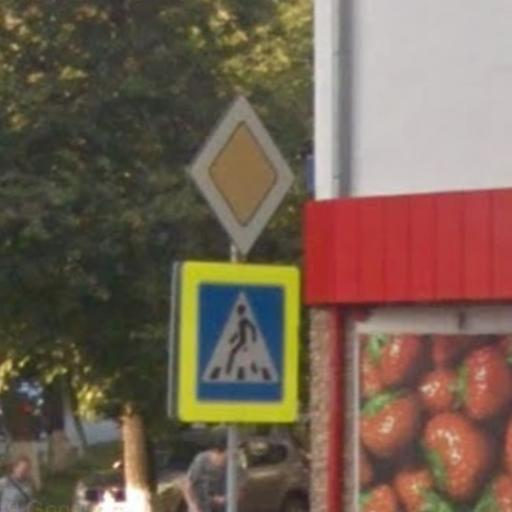traffic_sign: (174, 258, 304, 430), (187, 90, 302, 263)
